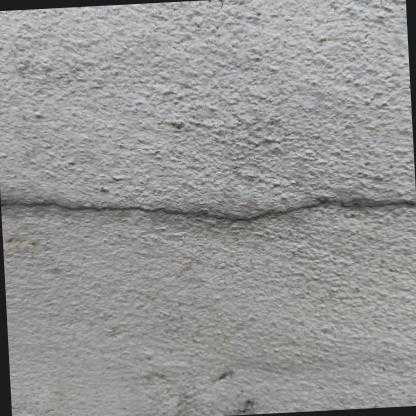crack: (0, 194, 416, 224)
